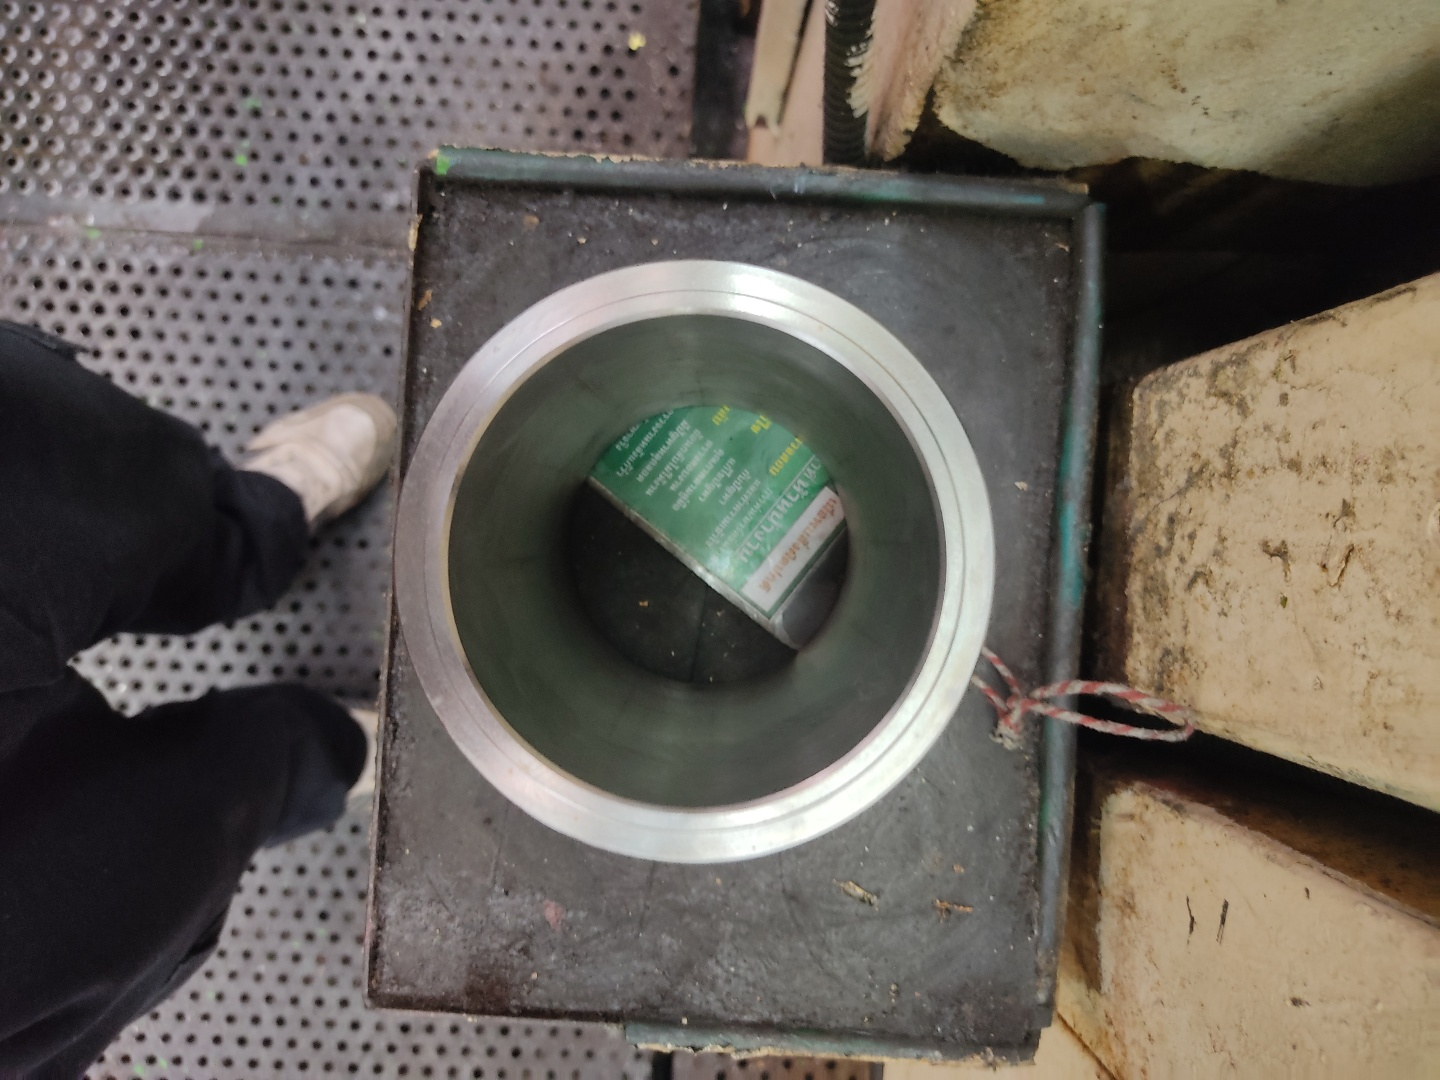cylinder: (392, 256, 1000, 868)
